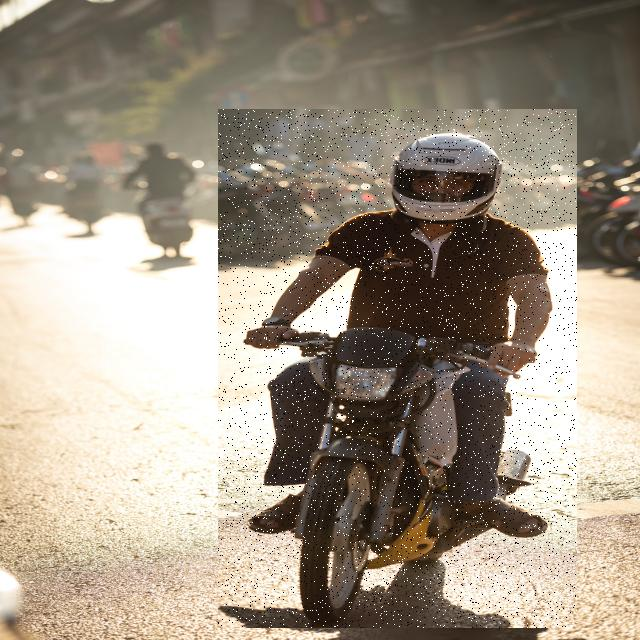With Helmet: (218, 109, 577, 628)
